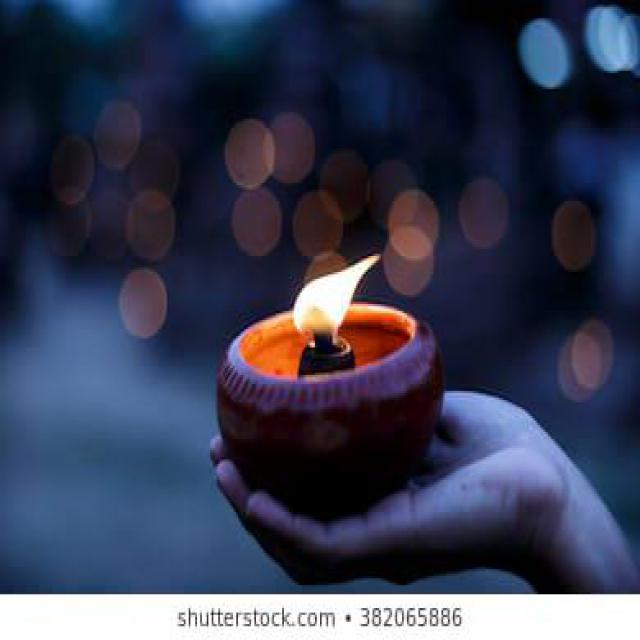Fire: (293, 254, 380, 343)
